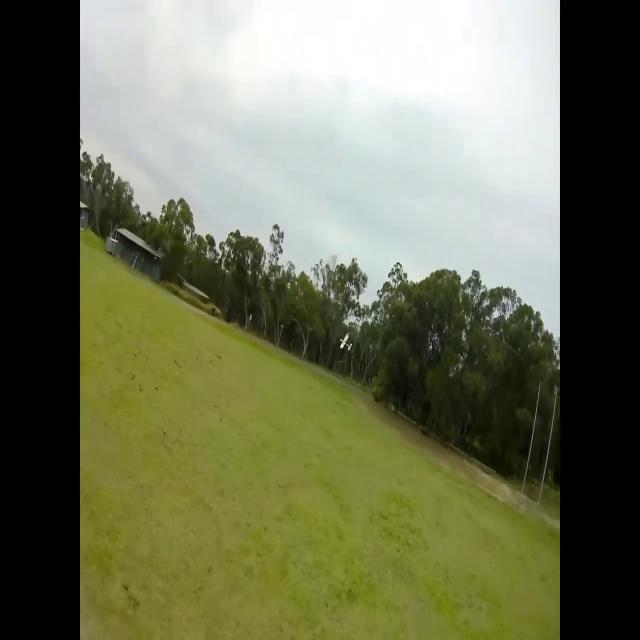iha: (339, 332, 353, 350)
